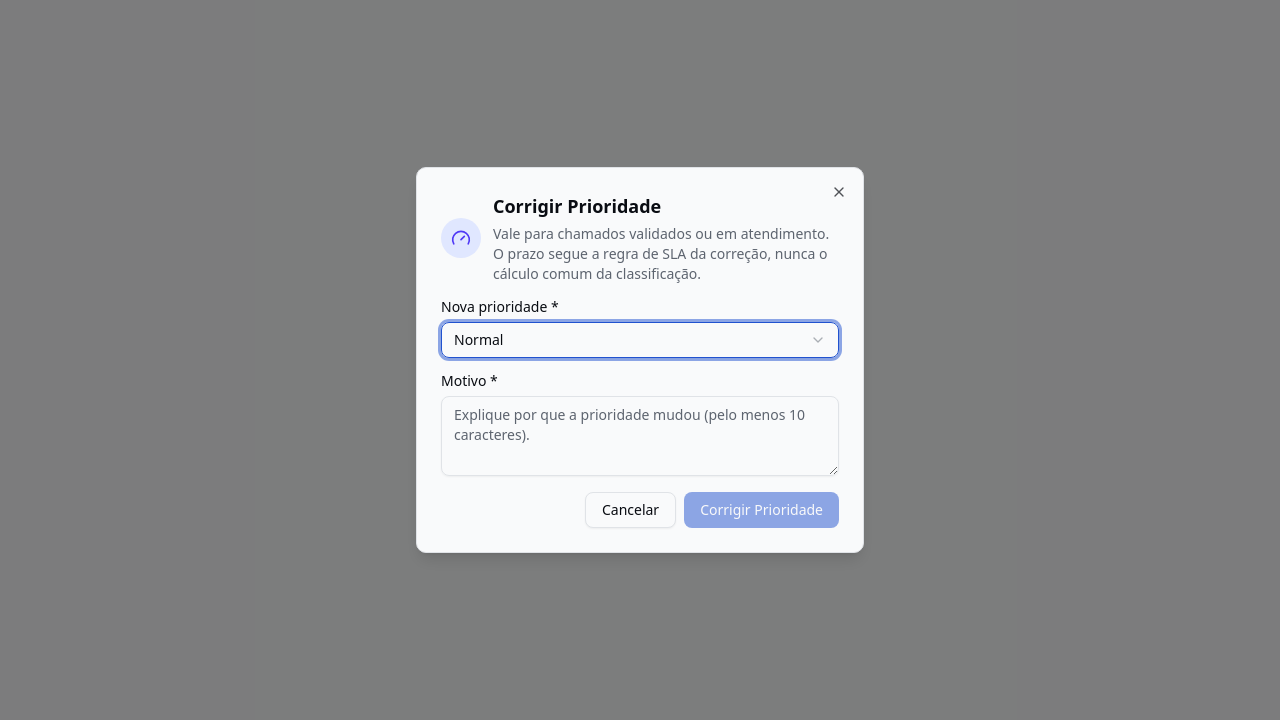
CorrigirPrioridadeDialog › com a prioridade atual selecionada, o botão fica desabilitado; trocar habilita
This screenshot has width=1280, height=720.
Expected: the button "Corrigir Prioridade" is disabled, [684,492,839,528]
What coordinates should you click on to do the following:
click the dropdown
I would click on:
 (479, 340)
Its box is [441,322,839,358].
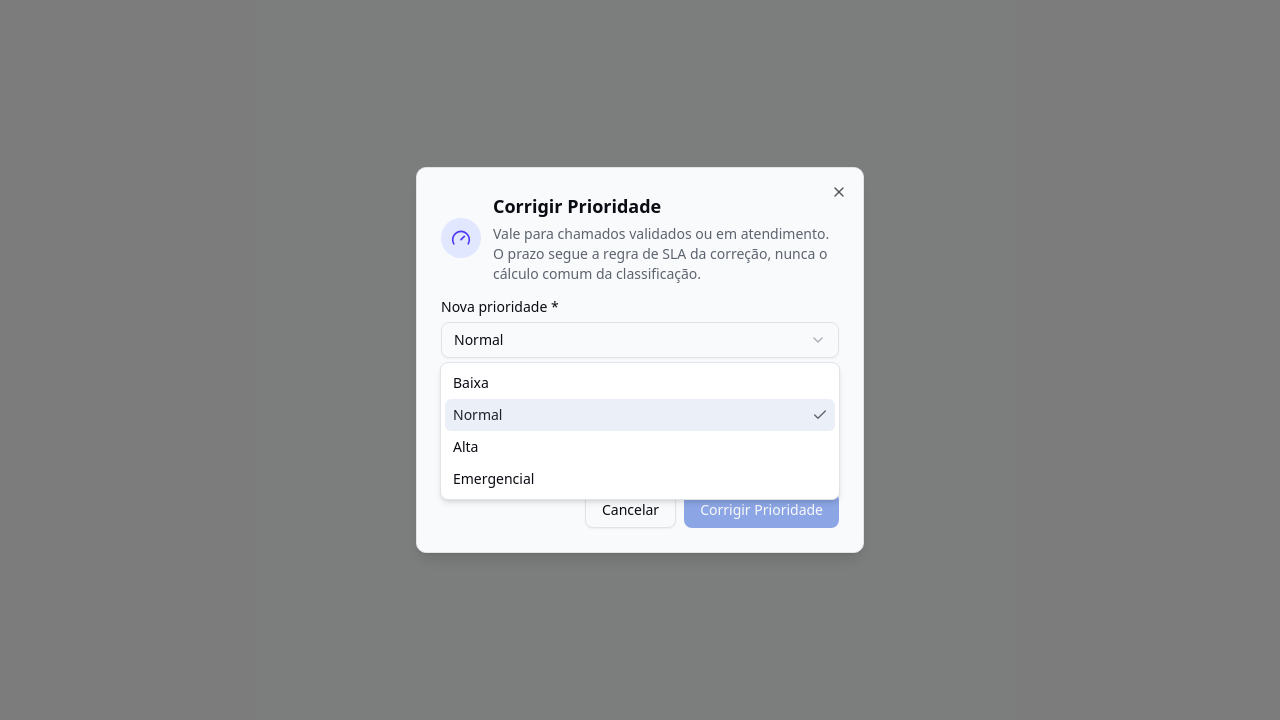
What coordinates should you click on to do the following:
click the option "Alta"
I would click on:
 (466, 446)
Its box is [453,437,478,456].
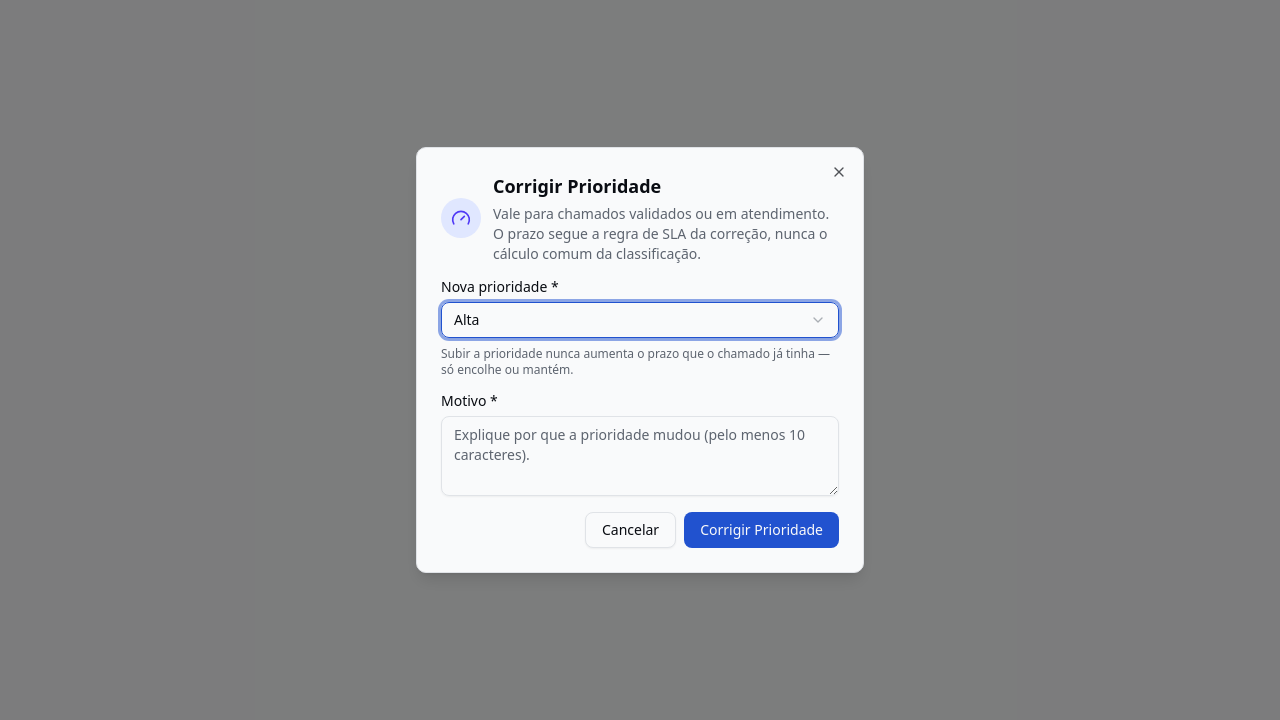
Expected: the button "Corrigir Prioridade" is enabled, [684,512,839,548]
